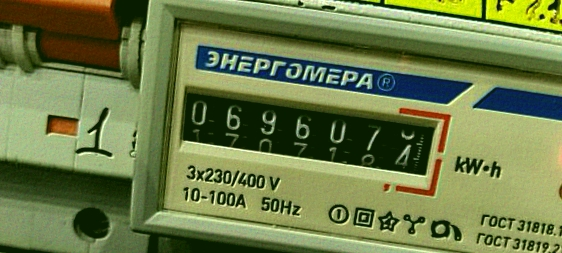0: (187, 95, 211, 128), (327, 114, 350, 146)
4: (391, 139, 414, 170)
6: (221, 100, 247, 133), (292, 110, 315, 141)
7: (361, 120, 383, 152)
9: (257, 106, 279, 137)
screen: (158, 65, 454, 197)
